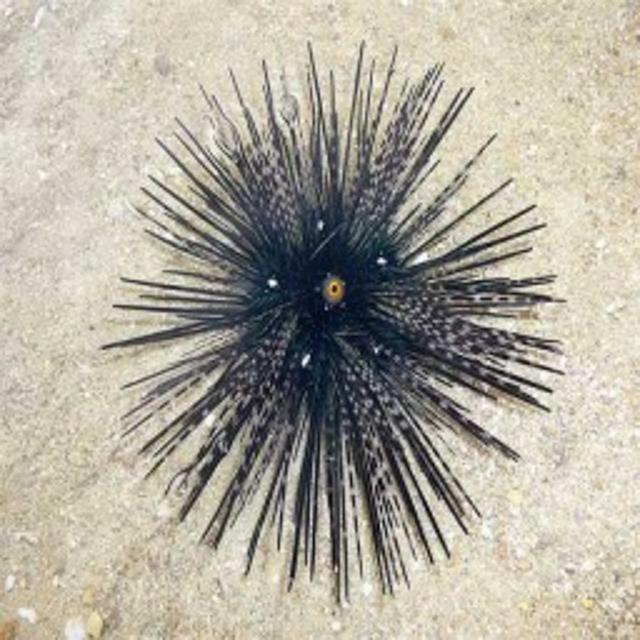Urchin: (104, 40, 571, 593)
